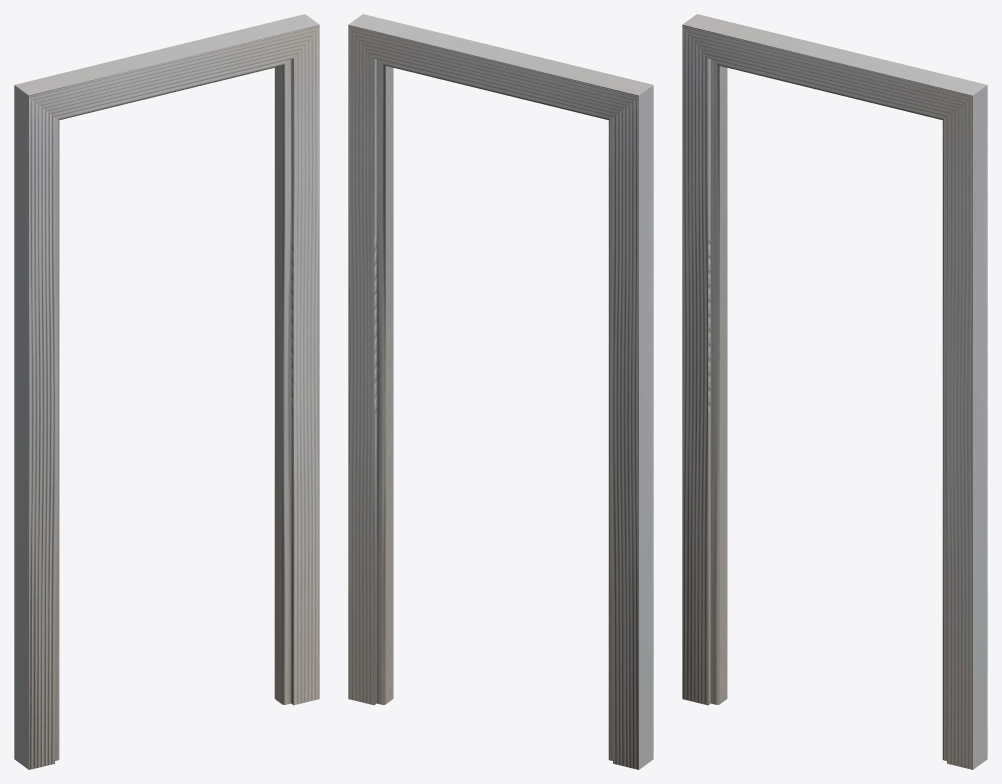
Rendered from 67_VEGAS_Frame.glb.
3 views of the same model, side by side, from view 1: azimuth 30°, elevation 25°; view 2: azimuth 150°, elevation 25°; view 3: azimuth 330°, elevation 25° (orthographic).
Parts seen in each view (by area): view 1: 67_VEGAS_Frame; view 2: 67_VEGAS_Frame; view 3: 67_VEGAS_Frame.
Part boxes in pixels (bbox=[...]): 67_VEGAS_Frame: bbox=[14, 14, 319, 769]; 67_VEGAS_Frame: bbox=[348, 14, 653, 769]; 67_VEGAS_Frame: bbox=[682, 14, 987, 769].
Bounding box in the file's own units: 1.05 × 2.32 × 0.0914.
1 material, 1 textured.
